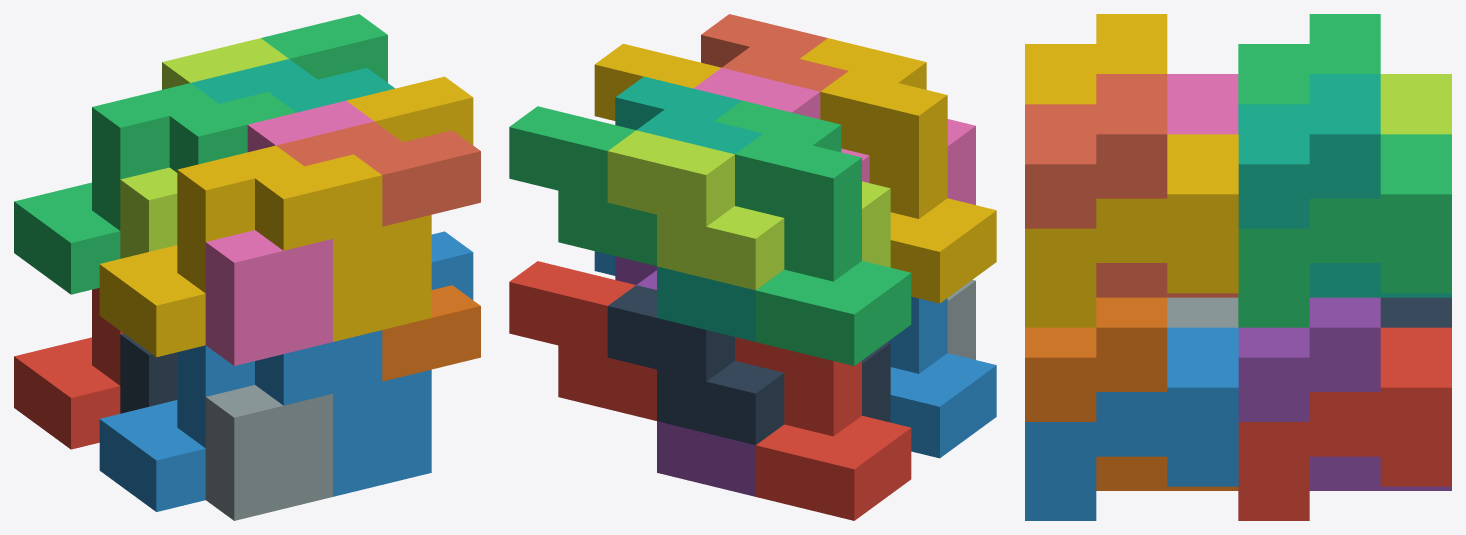
File: tiling.obj
The picture shows the model from 3 angles, left to right: view 1: azimuth 30°, elevation 25°; view 2: azimuth 150°, elevation 25°; view 3: azimuth 270°, elevation 25°; orthographic projection. The views are drawn at different scales.
Visible parts, largest first — view 1: copy_1_domain_4, copy_1_domain_3, copy_1_domain_2, copy_2_domain_4, copy_2_domain_8, copy_2_domain_2, copy_2_domain_6, copy_1_domain_8, copy_1_domain_1, copy_2_domain_3, copy_1_domain_6, copy_1_domain_7 (+2 smaller); view 2: copy_1_domain_3, copy_1_domain_4, copy_2_domain_3, copy_1_domain_1, copy_2_domain_1, copy_2_domain_5, copy_2_domain_7, copy_1_domain_7, copy_1_domain_2, copy_1_domain_8, copy_1_domain_5, copy_2_domain_4 (+2 smaller); view 3: copy_2_domain_8, copy_2_domain_7, copy_2_domain_6, copy_2_domain_5, copy_1_domain_7, copy_1_domain_8, copy_1_domain_5, copy_1_domain_6, copy_1_domain_3, copy_1_domain_4, copy_2_domain_3, copy_2_domain_4 (+2 smaller).
Part boxes in pixels (bbox=[...]): copy_1_domain_4: bbox=[99, 145, 382, 357]; copy_1_domain_3: bbox=[14, 83, 296, 294]; copy_1_domain_2: bbox=[99, 330, 382, 511]; copy_2_domain_4: bbox=[205, 100, 374, 365]; copy_2_domain_8: bbox=[333, 76, 473, 341]; copy_2_domain_2: bbox=[205, 385, 332, 520]; copy_2_domain_6: bbox=[333, 231, 473, 496]; copy_1_domain_8: bbox=[276, 121, 480, 226]; copy_1_domain_1: bbox=[14, 288, 123, 449]; copy_2_domain_3: bbox=[120, 38, 288, 258]; copy_1_domain_6: bbox=[382, 285, 480, 381]; copy_1_domain_7: bbox=[191, 59, 394, 112]; copy_1_domain_3: bbox=[714, 100, 911, 365]; copy_1_domain_4: bbox=[800, 38, 996, 303]; copy_2_domain_3: bbox=[607, 130, 890, 290]; copy_1_domain_1: bbox=[735, 337, 911, 520]; copy_2_domain_1: bbox=[607, 285, 890, 445]; copy_2_domain_5: bbox=[509, 261, 656, 420]; copy_2_domain_7: bbox=[509, 106, 656, 266]; copy_1_domain_7: bbox=[615, 76, 762, 341]; copy_1_domain_2: bbox=[887, 296, 996, 458]; copy_1_domain_8: bbox=[701, 14, 848, 91]; copy_1_domain_5: bbox=[615, 256, 755, 496]; copy_2_domain_4: bbox=[693, 68, 975, 204]; copy_2_domain_8: bbox=[1025, 134, 1238, 327]; copy_2_domain_7: bbox=[1238, 134, 1451, 327]; copy_2_domain_6: bbox=[1025, 327, 1238, 520]; copy_2_domain_5: bbox=[1238, 327, 1451, 520]; copy_1_domain_7: bbox=[1238, 74, 1451, 297]; copy_1_domain_8: bbox=[1025, 74, 1238, 297]; copy_1_domain_5: bbox=[1238, 297, 1451, 490]; copy_1_domain_6: bbox=[1025, 297, 1238, 490]; copy_1_domain_3: bbox=[1238, 14, 1380, 104]; copy_1_domain_4: bbox=[1025, 14, 1167, 104]; copy_2_domain_3: bbox=[1380, 74, 1451, 134]; copy_2_domain_4: bbox=[1167, 74, 1238, 134].
Size of the model in its own units: 7 by 6 by 6.
